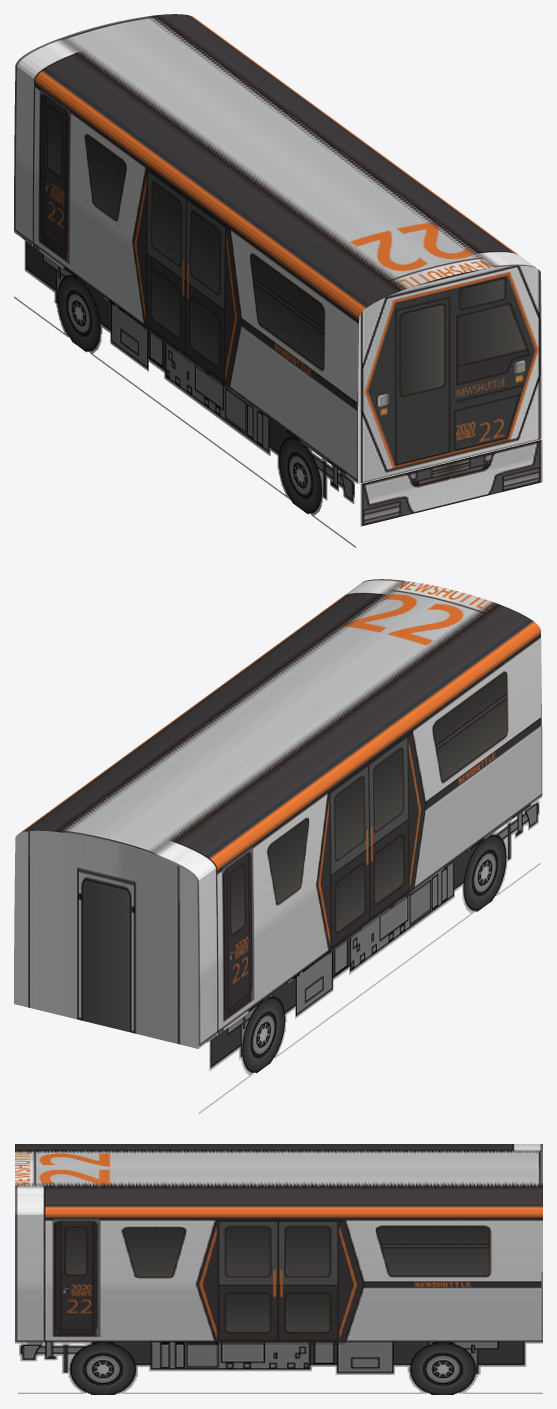
Rendered from car1.glb.
3 views of the same model, one above another, from view 1: azimuth 30°, elevation 25°; view 2: azimuth 150°, elevation 25°; view 3: azimuth 270°, elevation 25° (orthographic). The views are drawn at different scales.
Visible parts, largest first — view 1: saitama2020-car1; view 2: saitama2020-car1; view 3: saitama2020-car1.
Boxes of the visible parts, <box> form: saitama2020-car1: <box>14,14,542,547</box>; saitama2020-car1: <box>14,579,542,1113</box>; saitama2020-car1: <box>15,1144,542,1394</box>.
Size of the model in its own units: 2.48 by 3.24 by 8.01.
7 materials, 6 textured.
